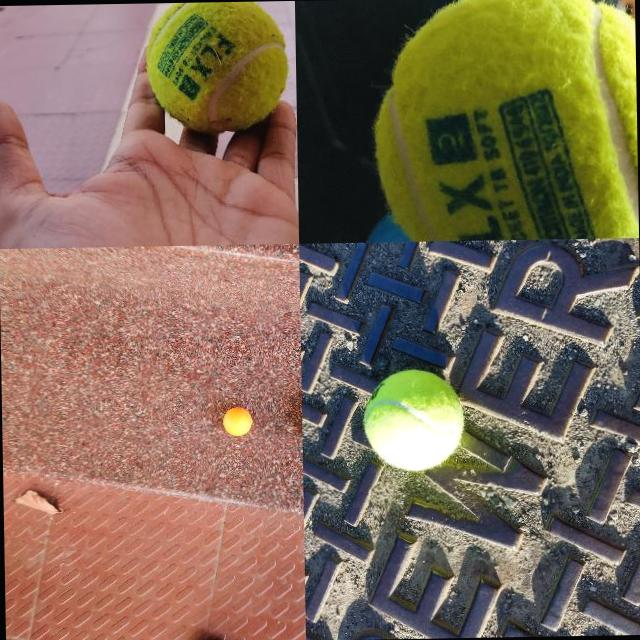Tennis Ball: (373, 0, 637, 241), (144, 1, 290, 134), (362, 368, 465, 472)
